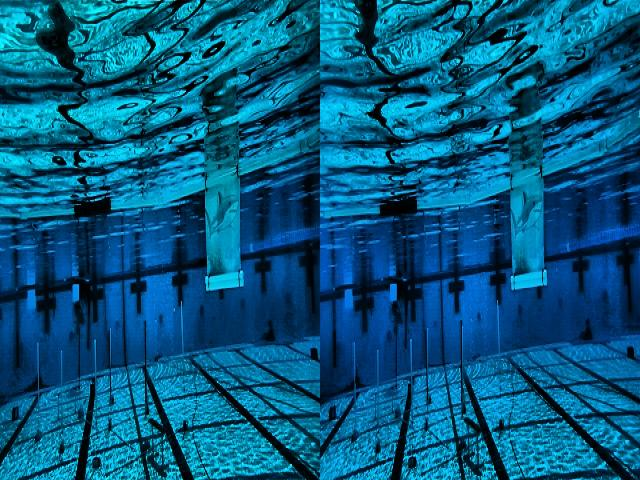gate: (330, 275, 410, 375), (13, 275, 92, 370)
octagon_top: (320, 110, 640, 291), (0, 125, 320, 291)
path_marker: (147, 414, 169, 474), (52, 383, 81, 426), (370, 383, 398, 426), (463, 417, 483, 473)
shark: (202, 168, 244, 281), (509, 170, 545, 280)
